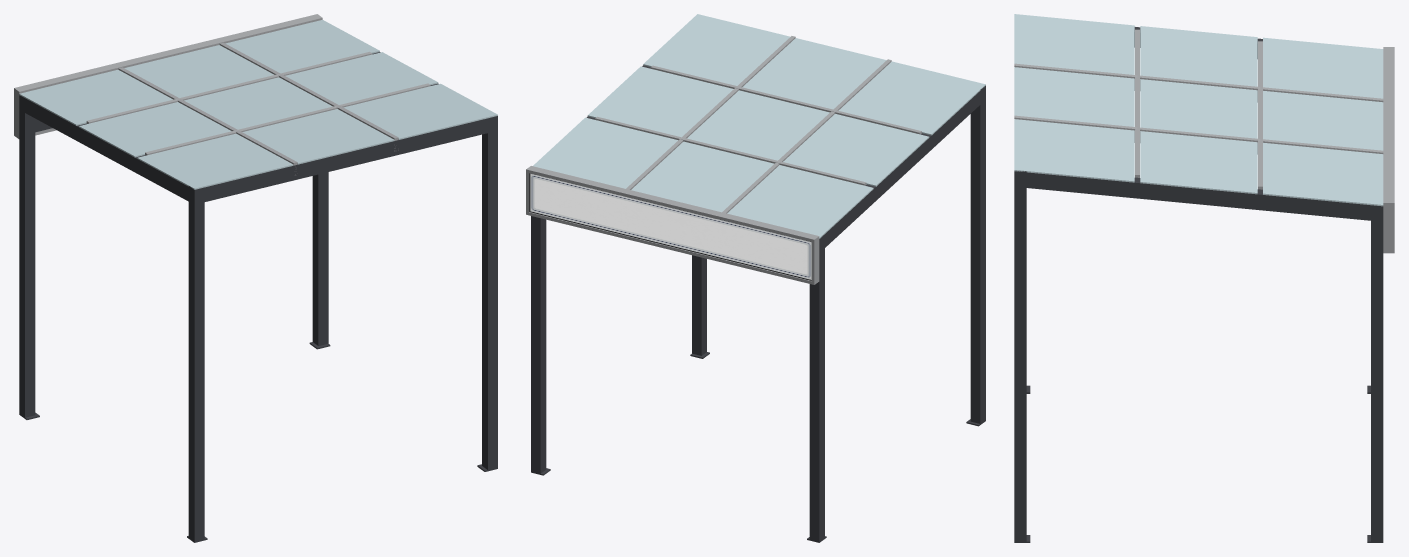
The model's file is gteki_street_canopy_w3000_d3000_posts.glb.
3 renders of one model, left to right at view 1: azimuth 30°, elevation 25°; view 2: azimuth 150°, elevation 25°; view 3: azimuth 270°, elevation 25°, orthographic. The views are drawn at different scales.
Visible parts, largest first — view 1: VIS_body; view 2: VIS_body; view 3: VIS_body.
Part boxes in pixels (x1=…): VIS_body: x1=14, y1=14, x2=497, y2=542; VIS_body: x1=526, y1=14, x2=985, y2=542; VIS_body: x1=1014, y1=14, x2=1394, y2=542.
Size of what is drawn, in the model's own units: 3 by 3.36 by 3.09.
Materials: 3 (3 with a texture image).
